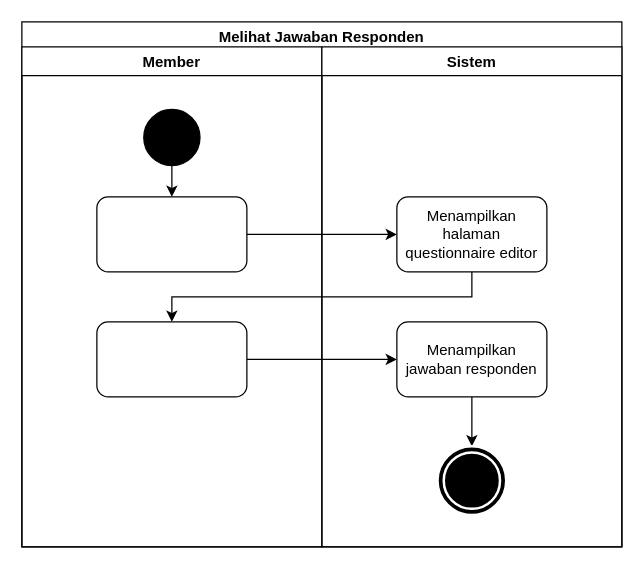
Image size: 644x569. Some labels were removed from this diagram. The shapes that lost their labels are listed below. From the top down, each one's centre as x and y in pixels, then its label:
At (x=171, y=234): "Memilih fitur ubah pada kuesioner yang diinginkan".
At (x=171, y=359): "Memilih tab response".
